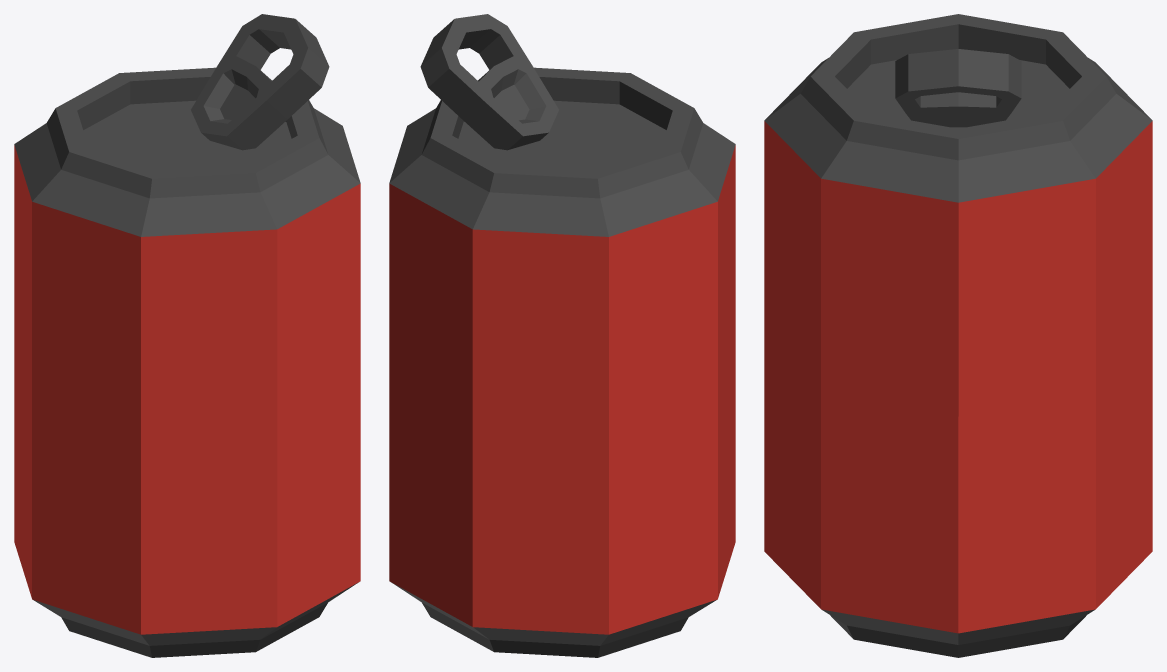
The model's file is Can01.fbx.
3 views of the same model, side by side, from view 1: azimuth 30°, elevation 25°; view 2: azimuth 150°, elevation 25°; view 3: azimuth 270°, elevation 25° (orthographic). The views are drawn at different scales.
Parts seen in each view (by area): view 1: Can; view 2: Can; view 3: Can.
Boxes of the visible parts, x1,y1,x2,y2 form: Can: (14,14,360,657); Can: (389,14,735,657); Can: (764,14,1152,657).
Size of the model in its own units: 40.87 by 70.06 by 40.87.
